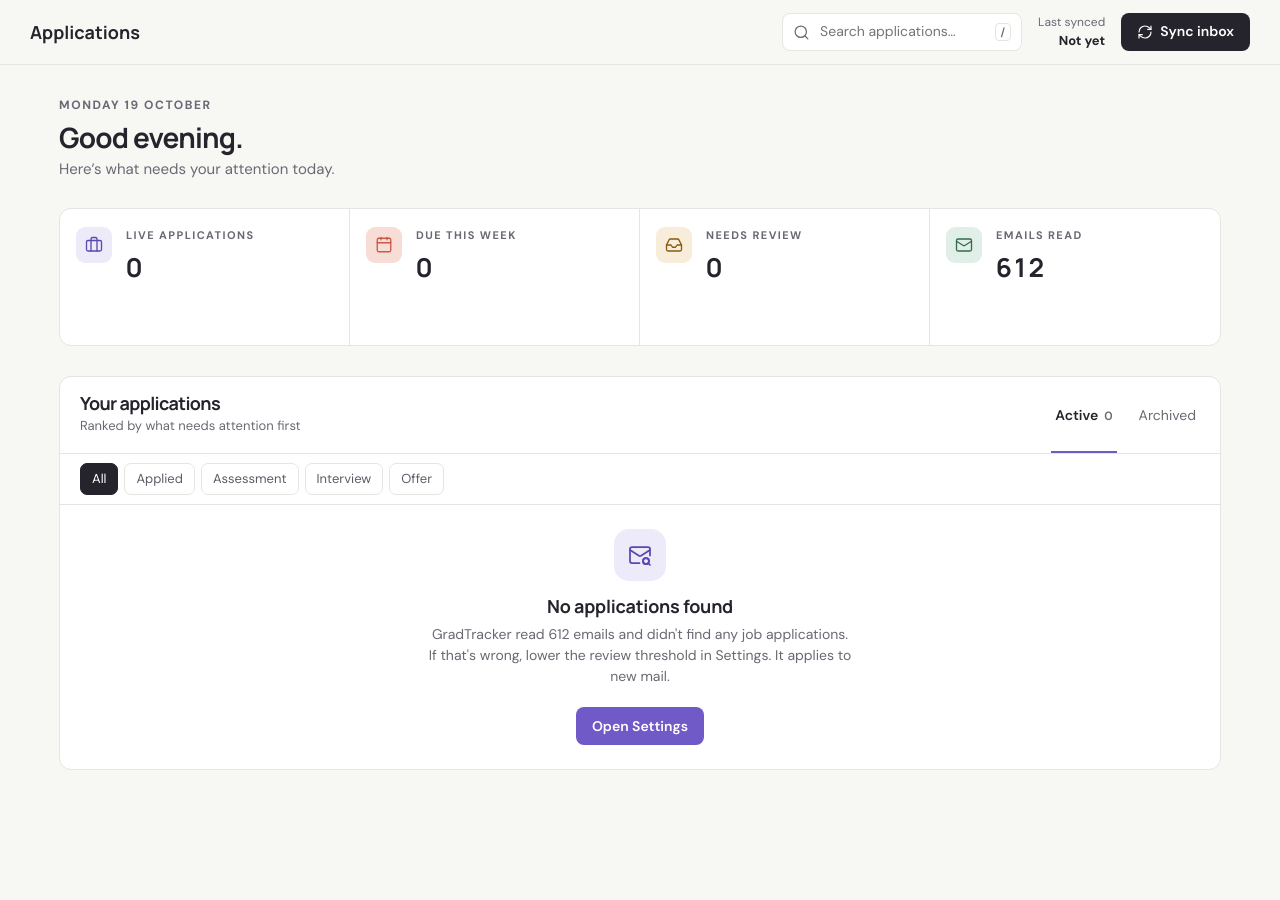
Test: Refresh (D36) › shows why the demo inbox could not be read
The width and height of the screenshot is (1280, 900).
Click the button "Sync inbox": x=1186, y=32 [1121, 13, 1250, 51]
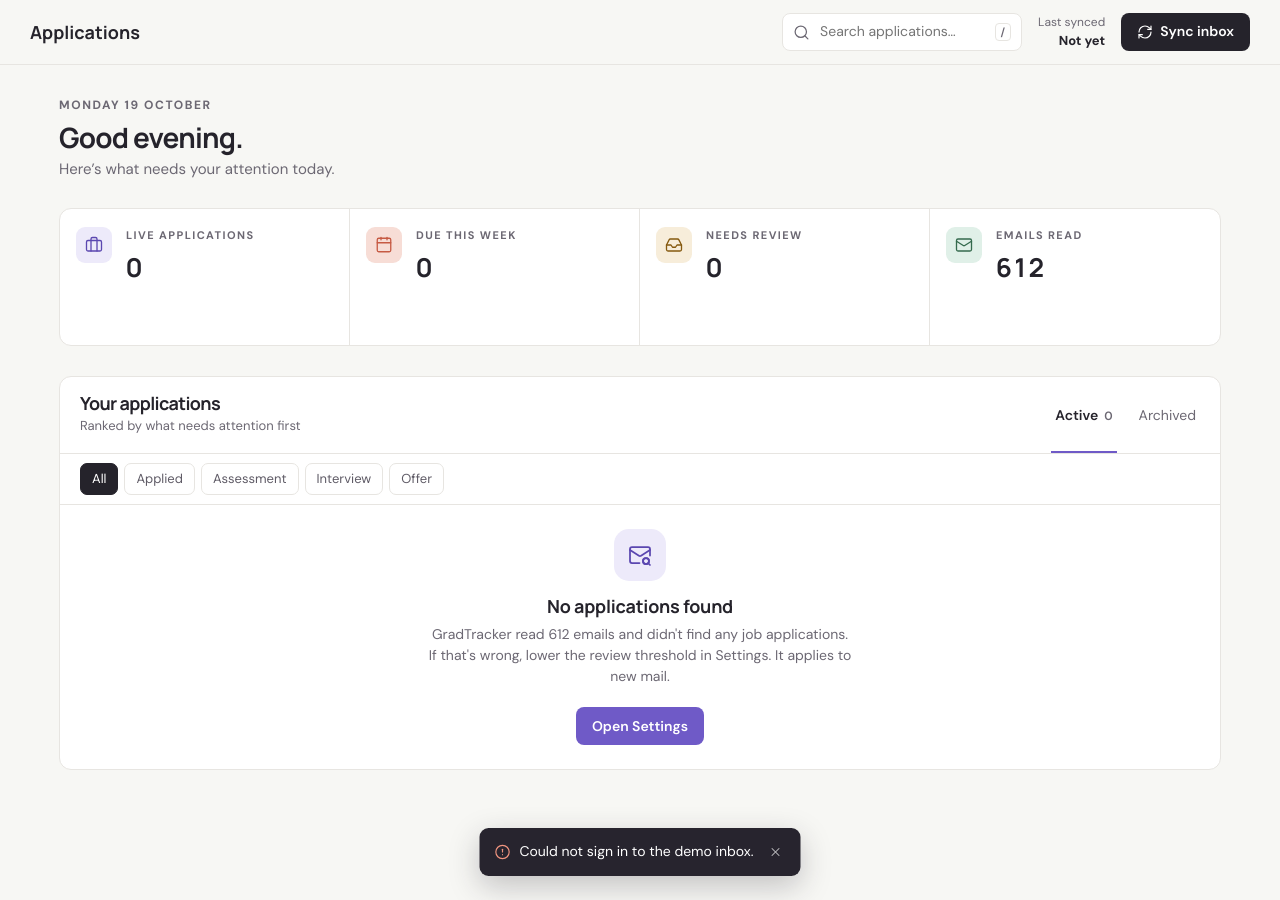
Now the text "Could not sign in to the demo inbox." is shown, box [520, 842, 754, 862]
